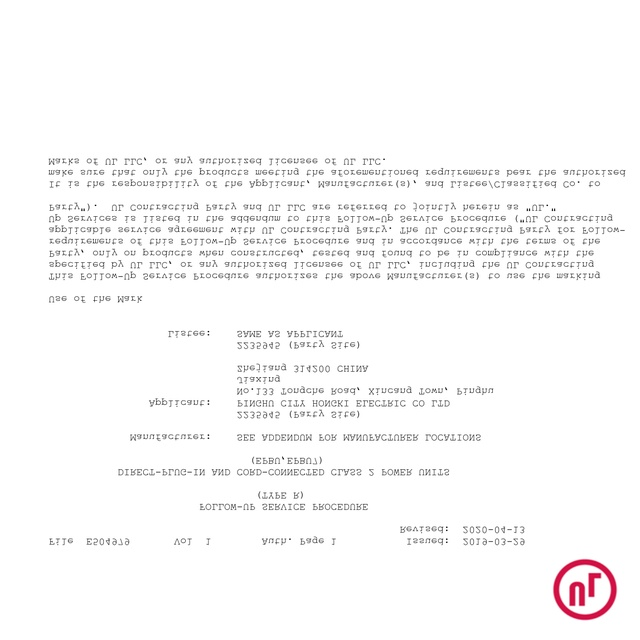ul: (552, 558, 618, 621)
